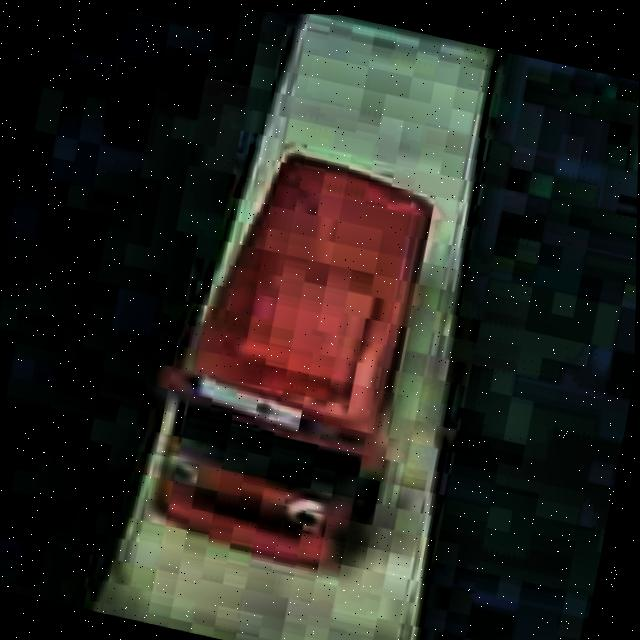bus: (133, 126, 448, 587)
